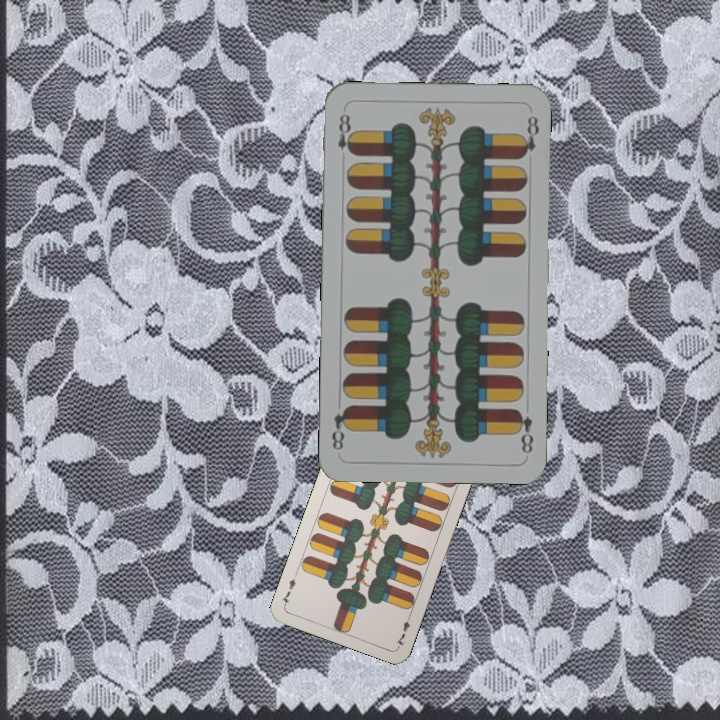E7: (392, 610, 414, 649)
E8: (511, 405, 536, 456), (333, 106, 357, 157)
